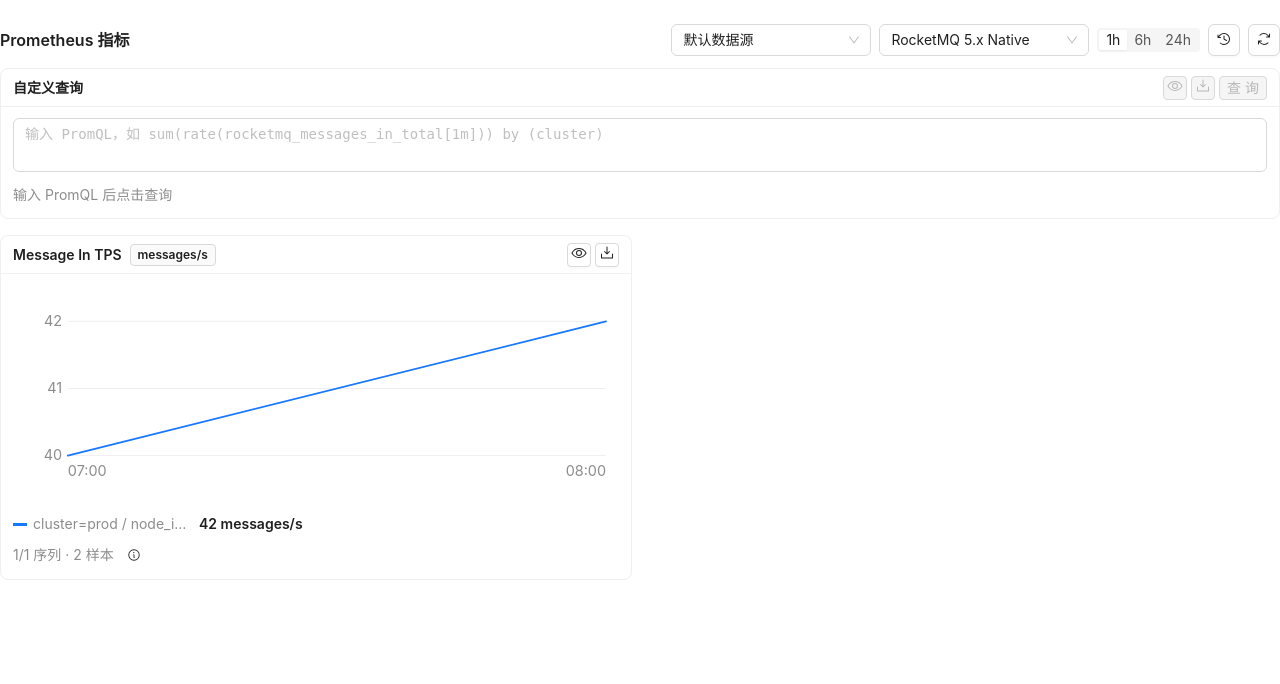
Test: MetricsExplorer › refreshes profile panels and the custom query independently
Expected: the text "42 messages/s" is shown, x1=199 y1=515 x2=303 y2=532
Type "sum(rocketmq_topic_number)" into the text box named "自定义查询" at (640, 145), box x1=13 y1=118 x2=1267 y2=172
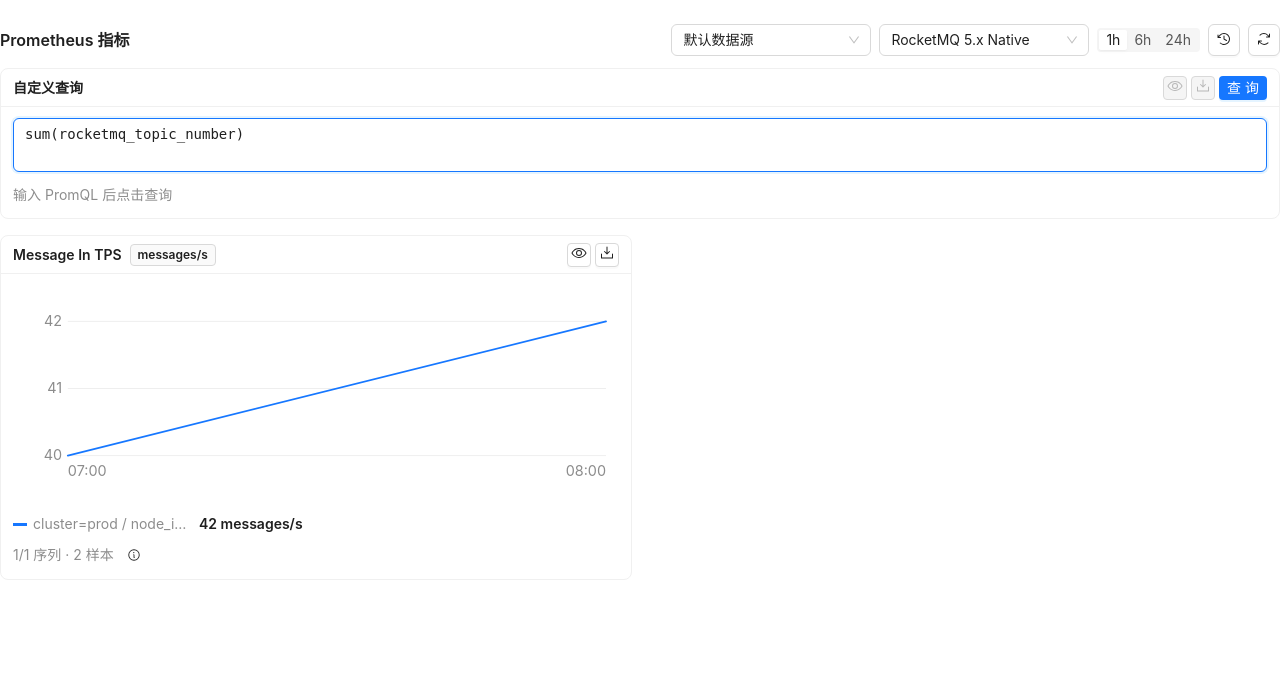
Click the button named "查询" at (1243, 88), box x1=1219 y1=76 x2=1267 y2=100
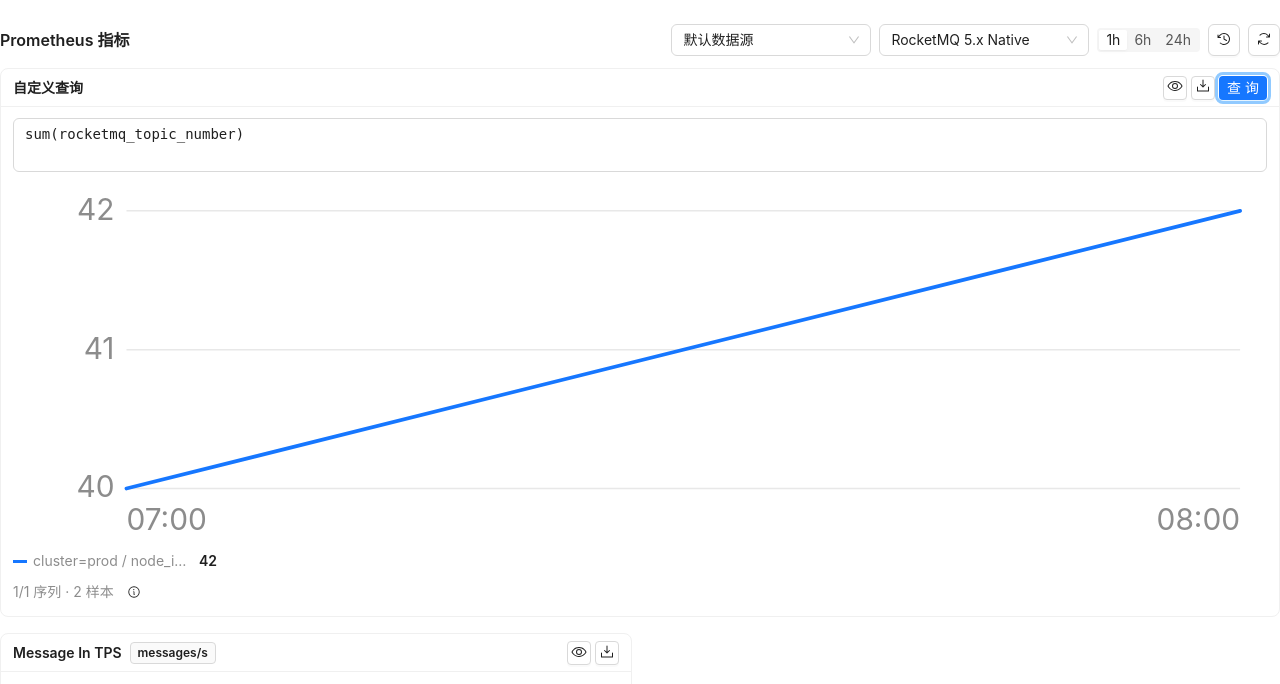
Click the button named "刷新全部面板" at (1264, 40), box x1=1248 y1=24 x2=1279 y2=56
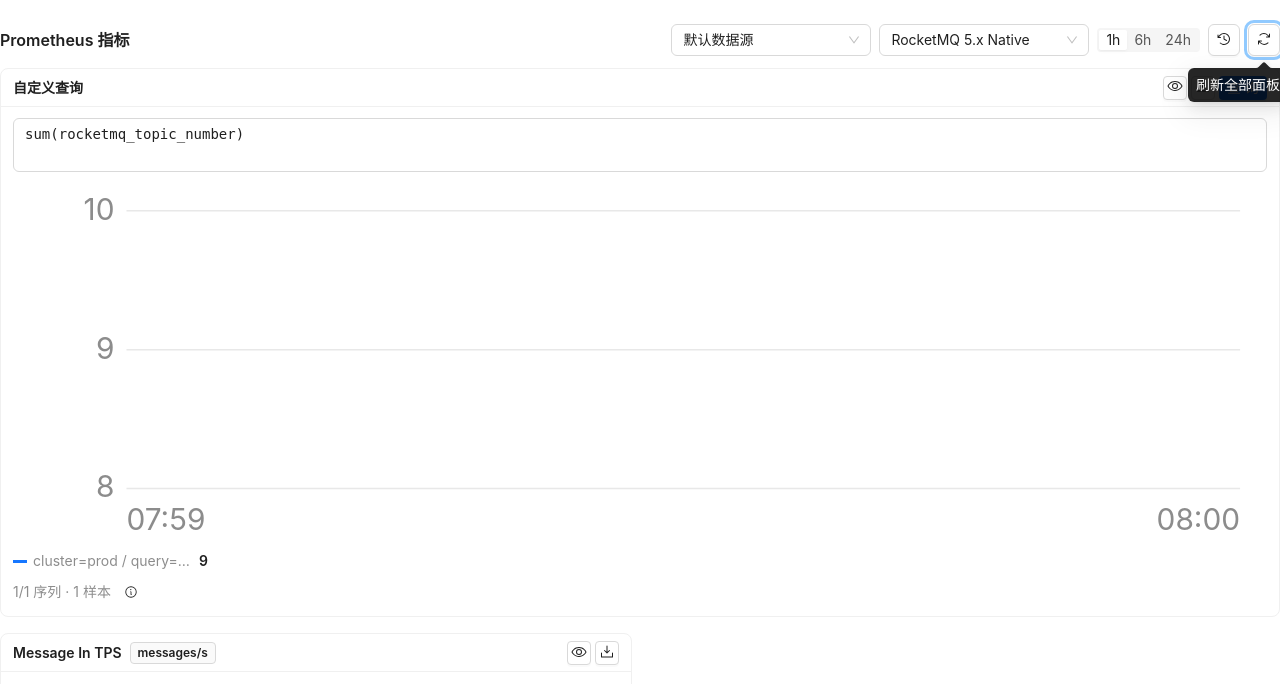
Result: the text "cluster=prod / query=custom" is shown at x1=33 y1=550 x2=193 y2=572
